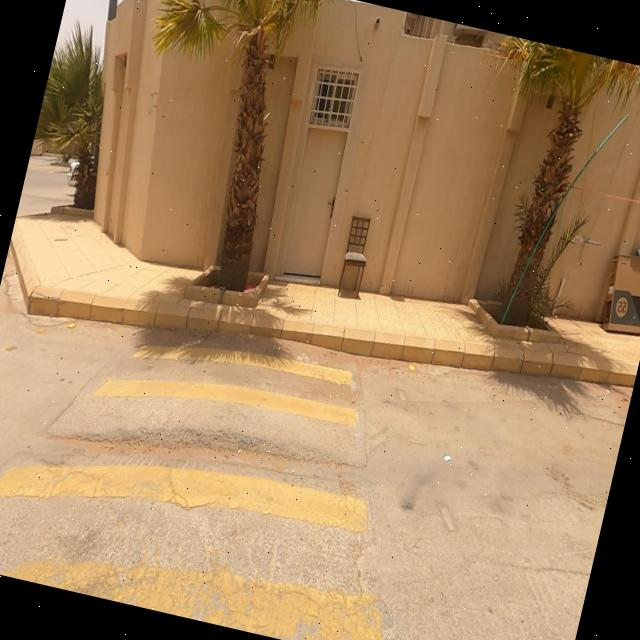Graffiti: (145, 88, 162, 122)
